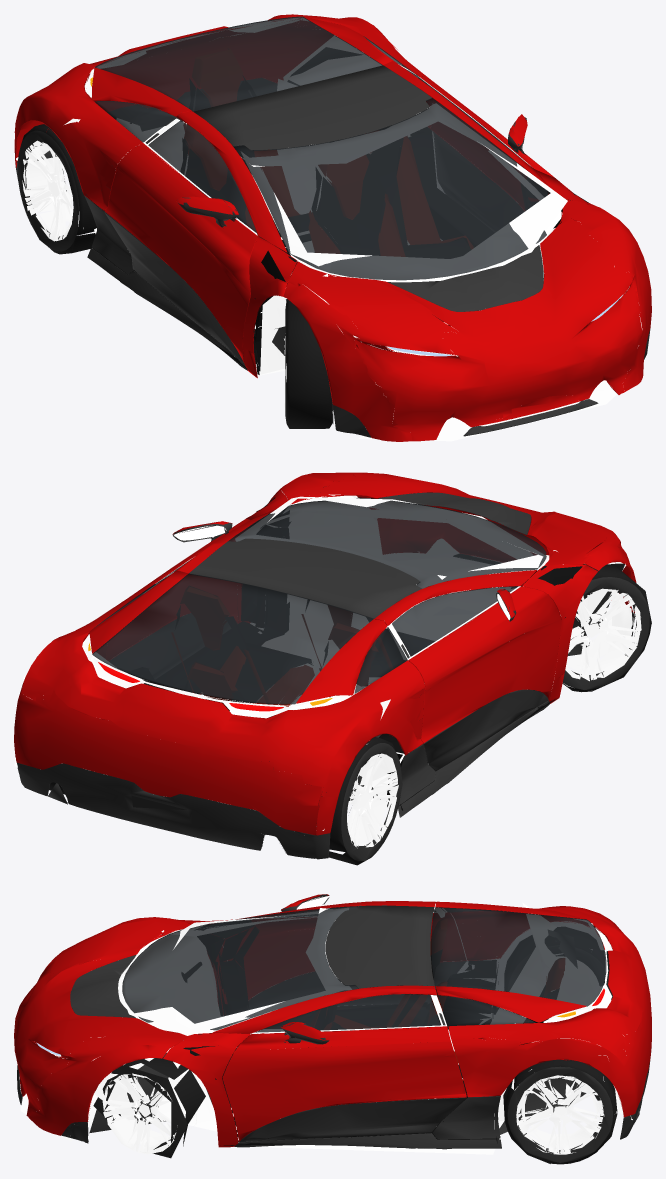
The model's file is coupe.glb.
3 views of the same model, one above another, from view 1: azimuth 30°, elevation 25°; view 2: azimuth 150°, elevation 25°; view 3: azimuth 270°, elevation 25° (orthographic). The views are drawn at different scales.
Parts seen in each view (by area): view 1: BodyHood, BodyWindshield, BodyRearPanelsColor1, BodyRearwindow, BodyDoorRColor1, BodyWindshieldGasket, BodyRoofPanel, InteriorSeatsColor1, InteriorSeatsColor2, InteriorFloor, BodyPillars, BodyPanelsColor2 (+13 smaller); view 2: BodyRearPanelsColor1, BodyRearwindow, BodyWindshield, BodyPanelsColor2, BodyDoorRColor1, InteriorFloor, BodyHood, BodyRoofPanel, BodyPillars, InteriorSeatsColor1, BodyWindshieldGasket, InteriorMid (+13 smaller); view 3: BodyRearPanelsColor1, BodyWindshield, BodyDoorLColor1, BodyHood, BodyRearwindow, InteriorFloor, BodyRoofPanel, BodyPillars, BodyWindshieldGasket, InteriorMid, BodyDoorLColor2, BodyPanelsColor2 (+15 smaller).
Part boxes in pixels (x1,y1,x2,y2): BodyHood: (283, 200, 651, 441); BodyWindshield: (234, 98, 547, 280); BodyRearPanelsColor1: (14, 14, 432, 210); BodyRearwindow: (95, 16, 382, 111); BodyDoorRColor1: (105, 143, 257, 362); BodyWindshieldGasket: (241, 104, 567, 282); BodyRoofPanel: (193, 65, 431, 150); InteriorSeatsColor1: (184, 49, 472, 256); InteriorSeatsColor2: (181, 78, 470, 325); InteriorFloor: (14, 35, 644, 441); BodyPillars: (176, 61, 596, 378); BodyPanelsColor2: (16, 78, 650, 437); BodyRearPanelsColor1: (14, 570, 425, 835); BodyRearwindow: (92, 573, 373, 704); BodyWindshield: (228, 497, 546, 588); BodyPanelsColor2: (16, 554, 635, 859); BodyDoorRColor1: (408, 586, 561, 743); InteriorFloor: (14, 494, 626, 830); BodyHood: (277, 472, 636, 612); BodyRoofPanel: (189, 538, 421, 618); BodyPillars: (175, 490, 597, 703); InteriorSeatsColor1: (172, 586, 424, 769); BodyWindshieldGasket: (236, 496, 548, 588); InteriorMid: (123, 497, 582, 810); BodyRearPanelsColor1: (435, 901, 651, 1117); BodyWindshield: (122, 906, 357, 1030); BodyDoorLColor1: (222, 1026, 466, 1141); BodyHood: (14, 917, 196, 1135); BodyRearwindow: (431, 907, 606, 1006); InteriorFloor: (20, 902, 632, 1154); BodyRoofPanel: (325, 905, 434, 988); BodyPillars: (163, 901, 436, 1147); BodyWindshieldGasket: (118, 908, 351, 1035); InteriorMid: (183, 920, 498, 1145); BodyDoorLColor2: (239, 1097, 466, 1141); BodyPanelsColor2: (17, 1003, 651, 1149).
Size of the model in its own units: 2.55 by 1.15 by 4.36.
